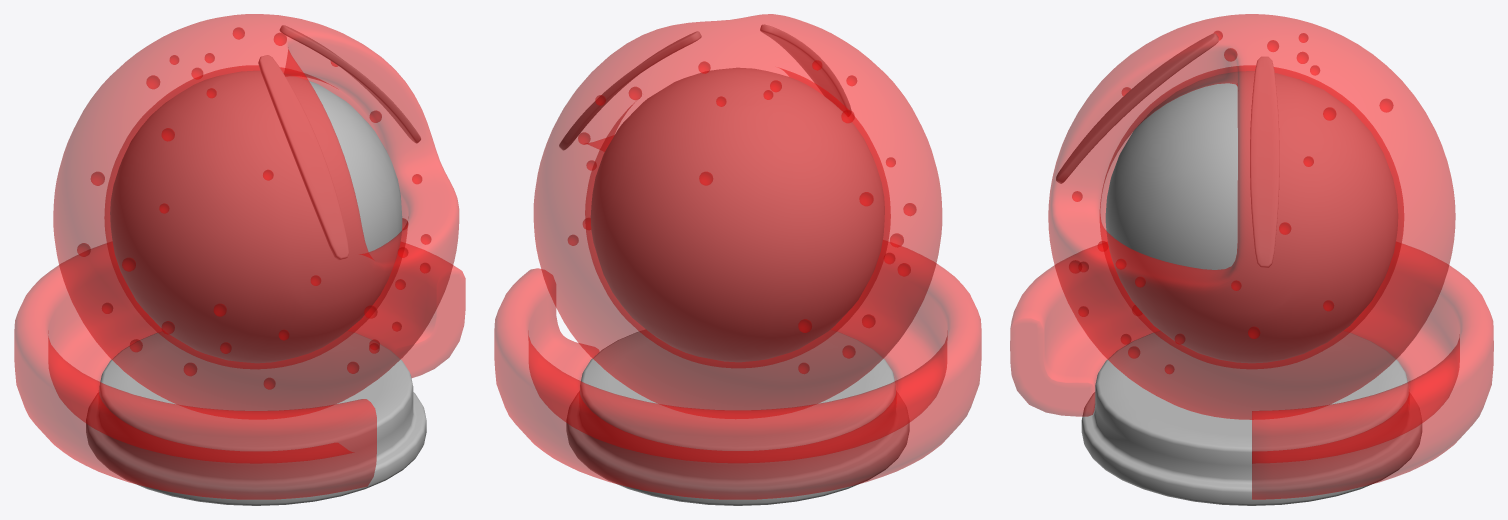
File: USDShaderBallForGltf.glb
3 renders of one model, left to right at view 1: azimuth 30°, elevation 25°; view 2: azimuth 150°, elevation 25°; view 3: azimuth 270°, elevation 25°, orthographic.
Parts seen in each view (by area): view 1: material, core, base, sss_bars; view 2: material, core, base, sss_bars; view 3: material, core, base, sss_bars.
Boxes of the visible parts, bbox=[...] form: material: bbox=[14, 14, 465, 499]; core: bbox=[110, 70, 402, 363]; base: bbox=[86, 331, 426, 505]; sss_bars: bbox=[258, 25, 420, 259]; material: bbox=[494, 14, 981, 499]; core: bbox=[590, 67, 884, 362]; base: bbox=[566, 330, 909, 505]; sss_bars: bbox=[559, 24, 851, 150]; material: bbox=[1010, 14, 1493, 499]; core: bbox=[1105, 71, 1398, 363]; base: bbox=[1081, 331, 1422, 505]; sss_bars: bbox=[1056, 33, 1279, 267].
Size of the model in its own units: 0.0892 by 0.082 by 0.0892.
